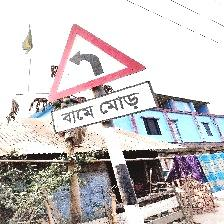Left-Turn: (37, 23, 156, 133)
